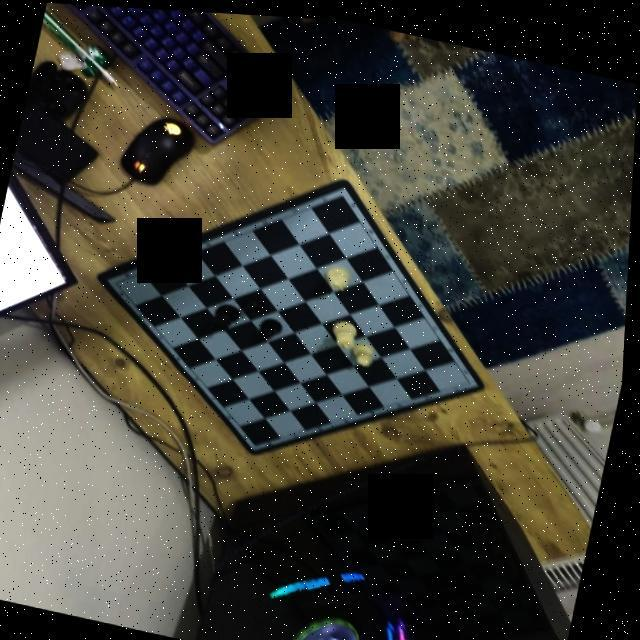chess-table-corners: (330, 182, 358, 204), (458, 368, 484, 386), (248, 432, 272, 451), (112, 274, 131, 288)
